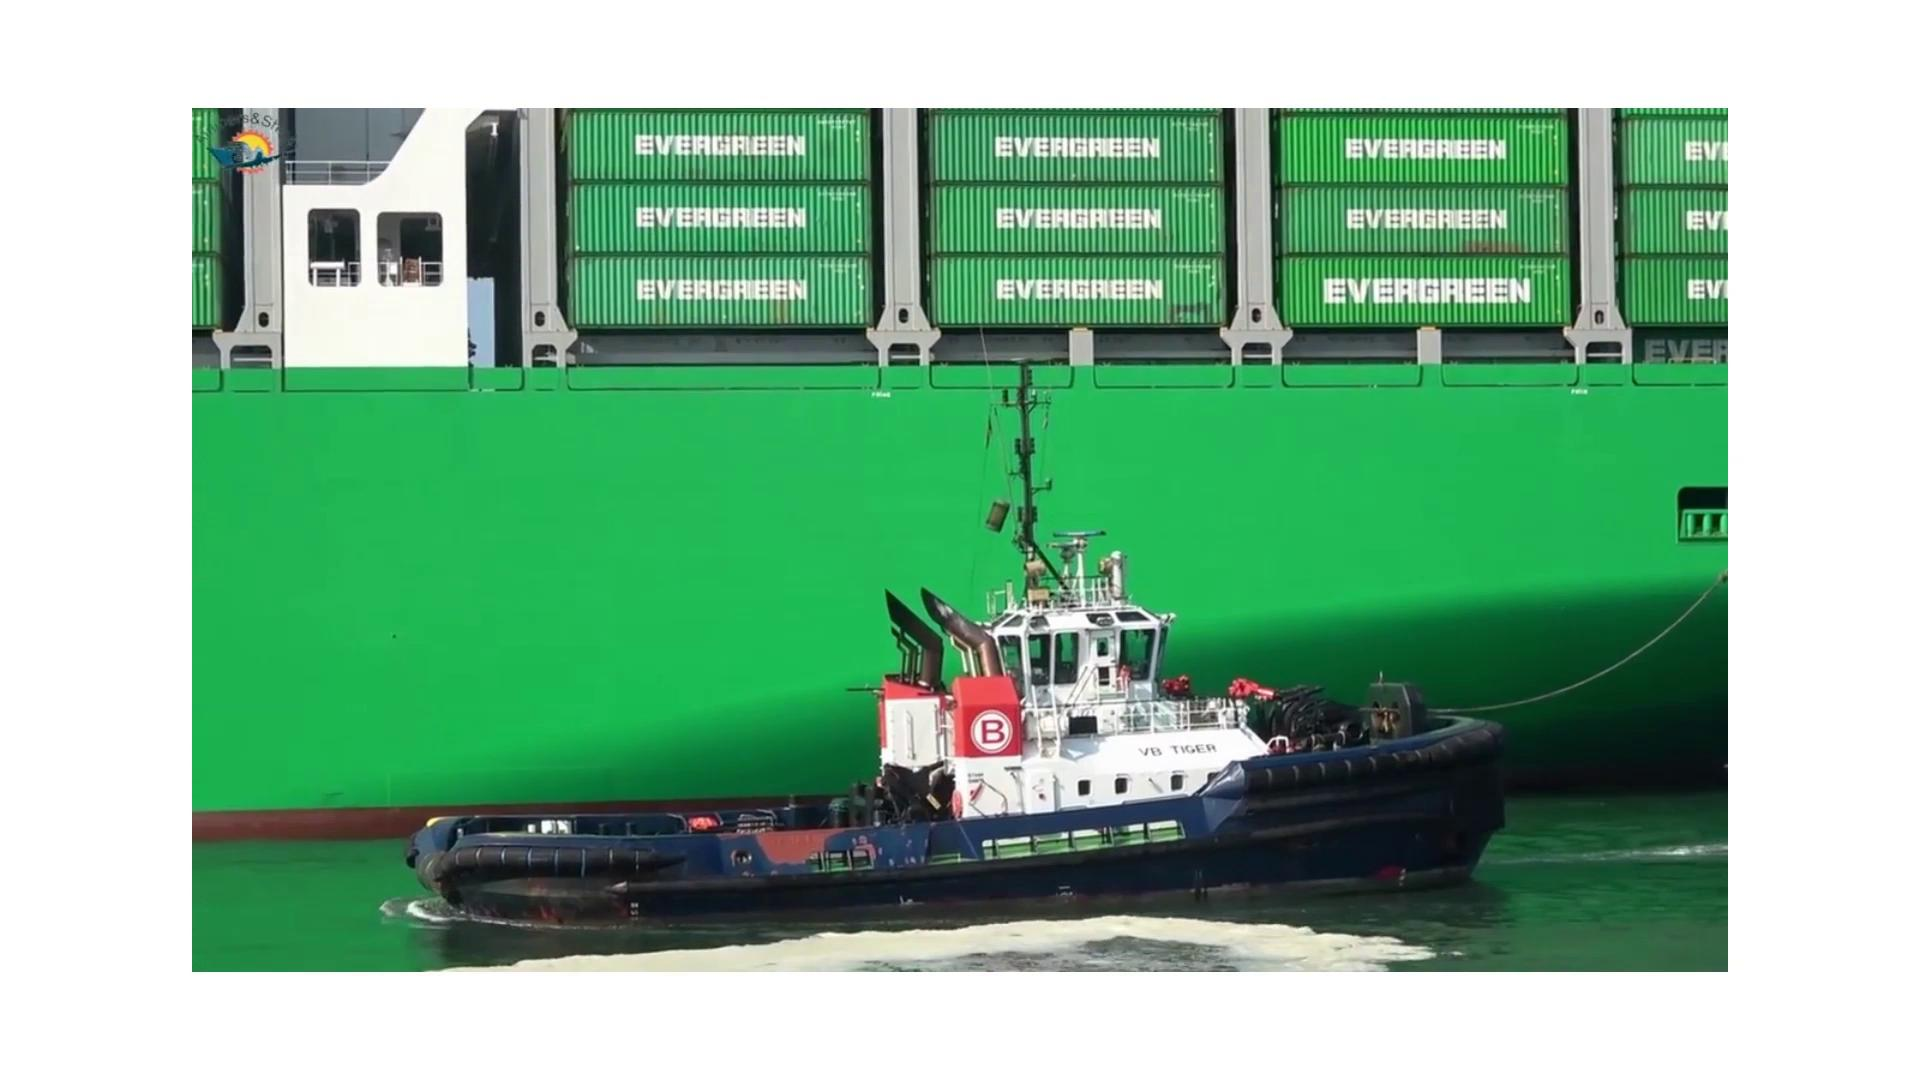OCR: (963, 262, 1196, 311)
